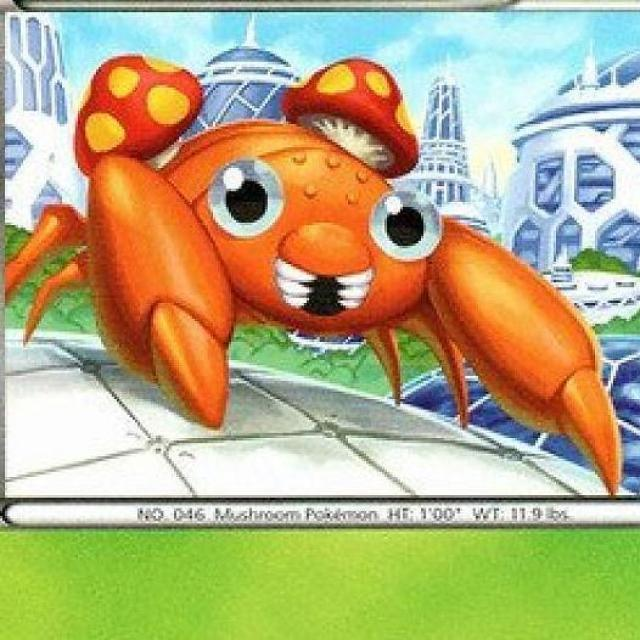Paras: (47, 50, 595, 412)
